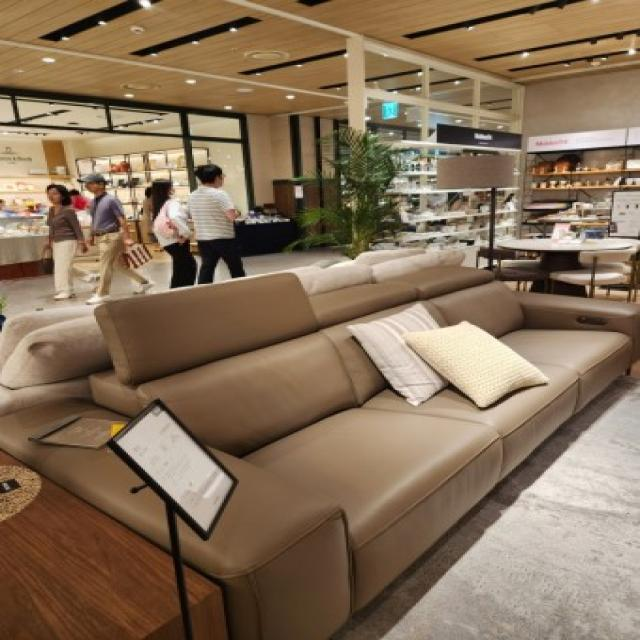Sofa: (23, 255, 625, 608)
Table: (494, 222, 630, 294)
